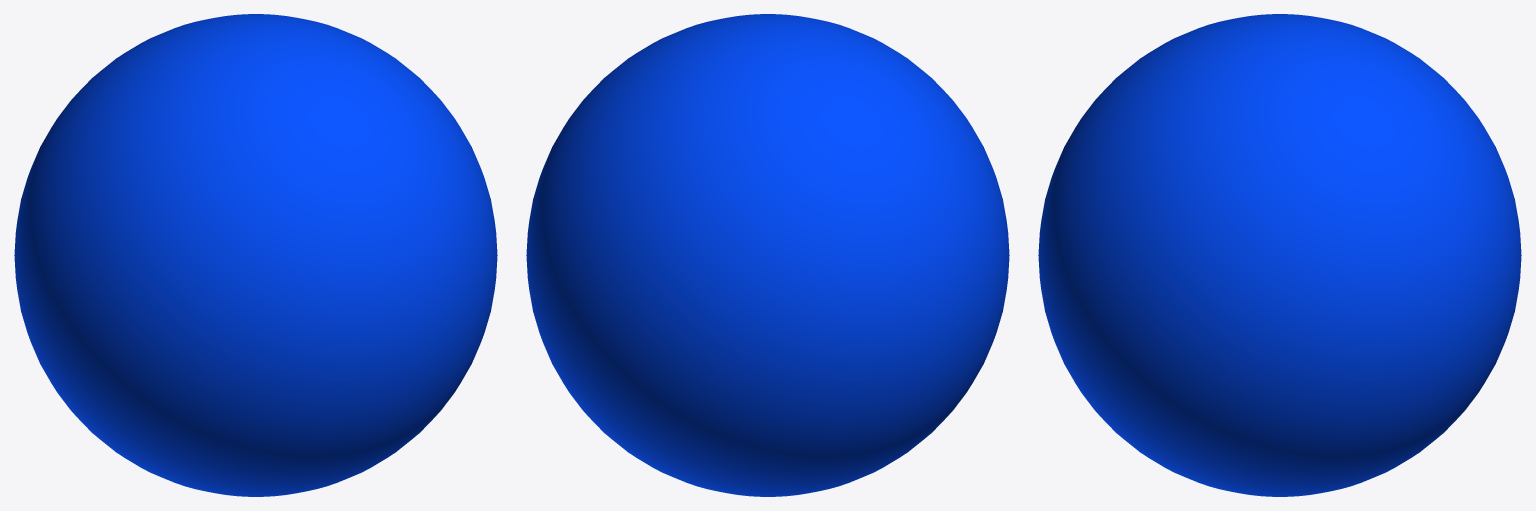
File: sky.FBX
The picture shows the model from 3 angles, left to right: view 1: azimuth 30°, elevation 25°; view 2: azimuth 150°, elevation 25°; view 3: azimuth 270°, elevation 25°; orthographic projection.
Parts seen in each view (by area): view 1: Sphere001; view 2: Sphere001; view 3: Sphere001.
Boxes of the visible parts, left/top/right/bottom form: Sphere001: left=14, top=14, right=497, bottom=496; Sphere001: left=526, top=14, right=1009, bottom=496; Sphere001: left=1038, top=14, right=1521, bottom=496.
Size of the model in its own units: 10000 by 10000 by 10000.
1 material, 1 textured.
